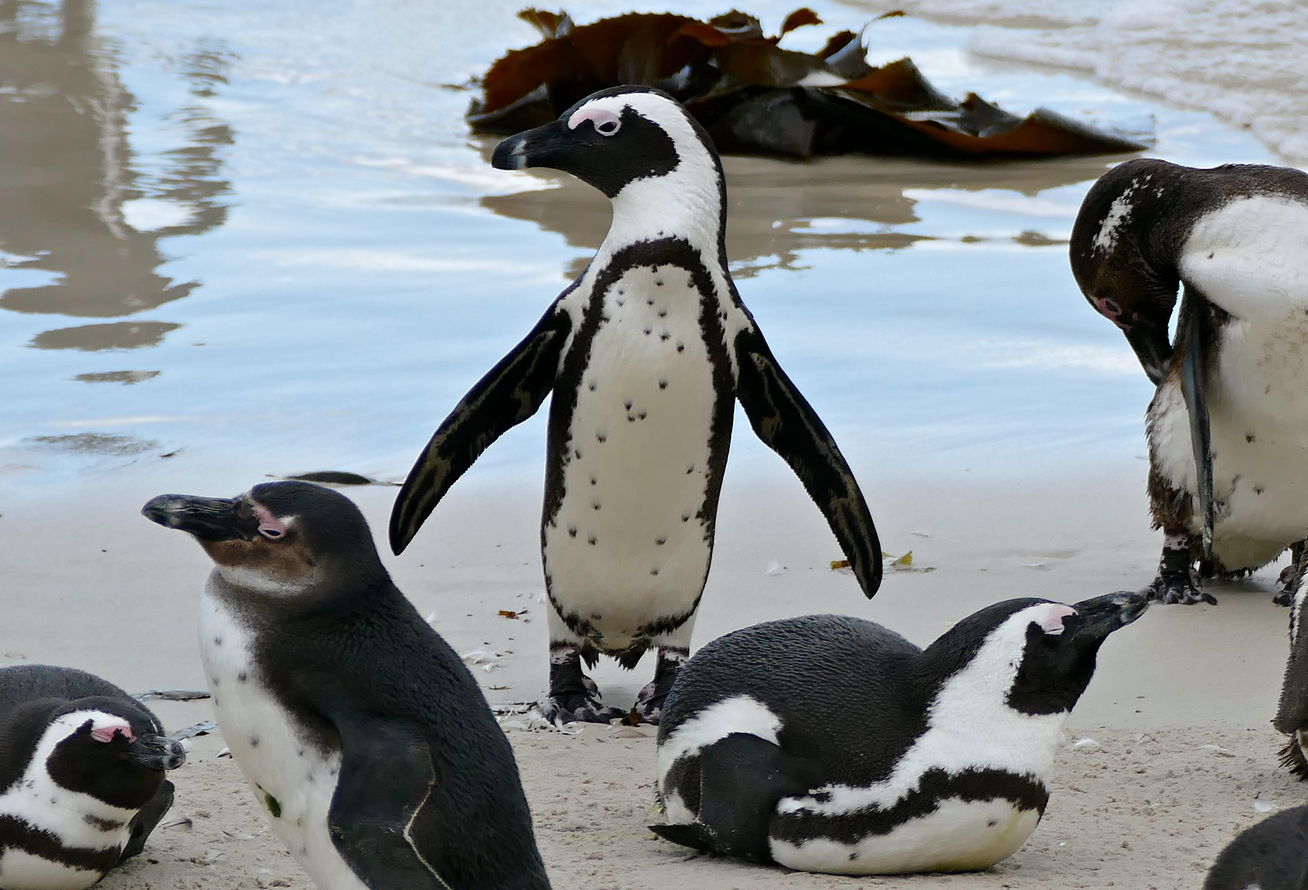Penguin: (388, 87, 881, 723), (143, 480, 549, 889), (651, 592, 1150, 873), (1071, 159, 1308, 607), (0, 664, 186, 889), (1270, 564, 1308, 783)
